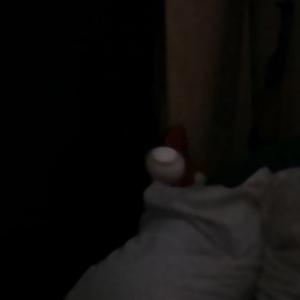ball: (145, 146, 188, 187)
